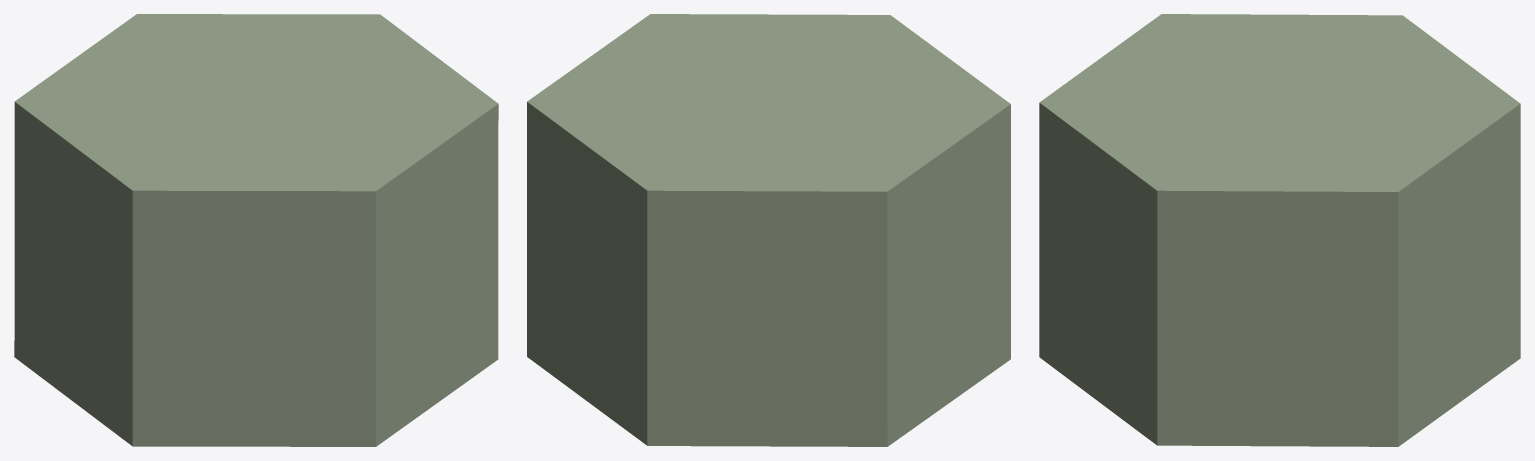
The model's file is 03_Roche_01_v001.fbx.
The picture shows the model from 3 angles, left to right: view 1: azimuth 30°, elevation 25°; view 2: azimuth 150°, elevation 25°; view 3: azimuth 270°, elevation 25°; orthographic projection.
Parts seen in each view (by area): view 1: Roche_01; view 2: Roche_01; view 3: Roche_01.
Boxes of the visible parts, x1,y1,x2,y2 form: Roche_01: (14,14,498,446); Roche_01: (527,14,1010,446); Roche_01: (1039,14,1520,446).
Bounding box in the file's own units: 1.76 × 1.17 × 2.01.
